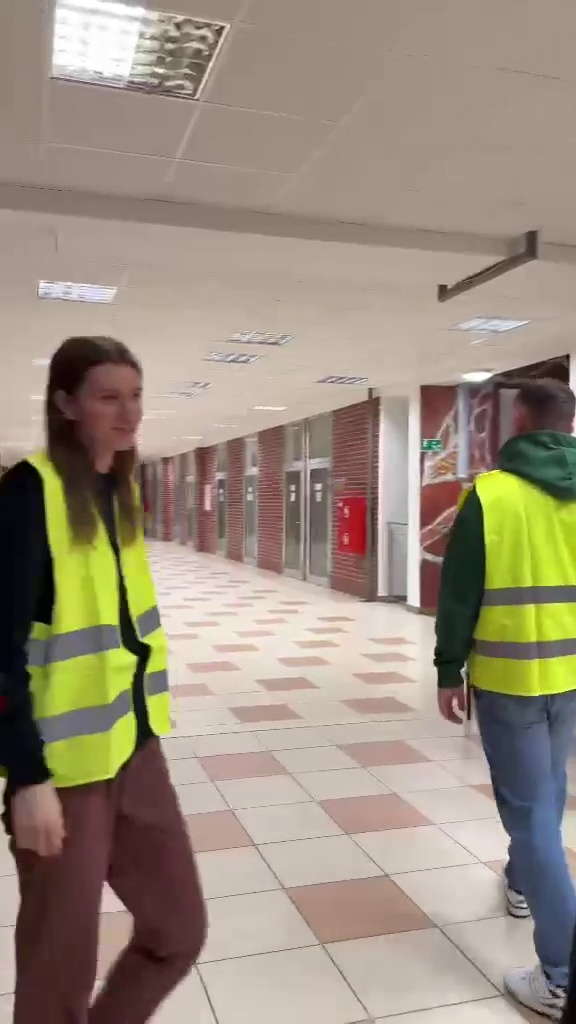vest: (2, 324, 225, 1019), (426, 378, 576, 1009)
